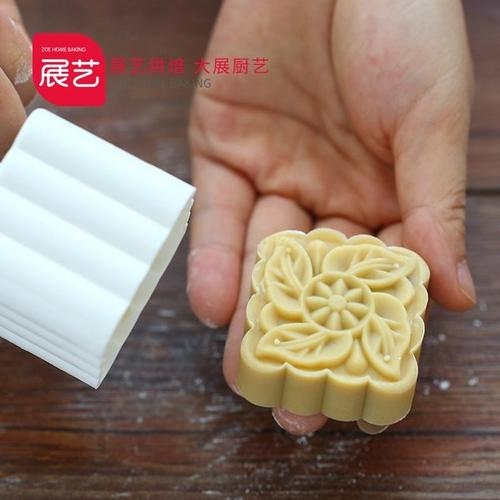MoonCake: (239, 227, 429, 425)
